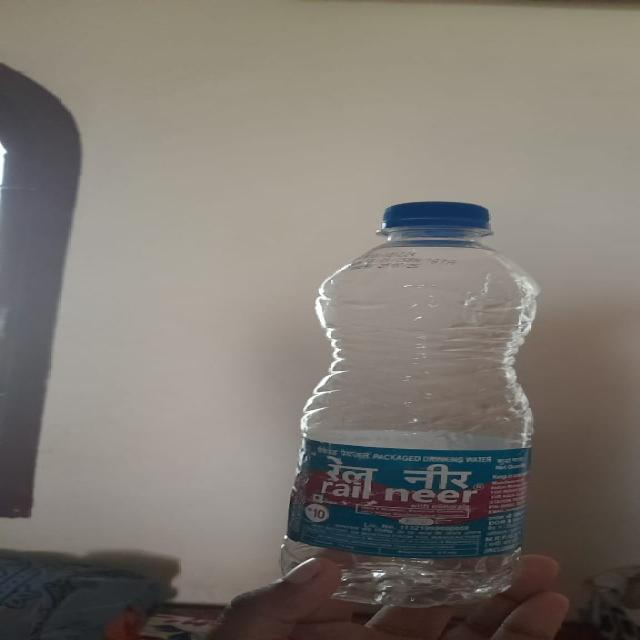Plastic - Recyclable: (277, 199, 541, 607)
